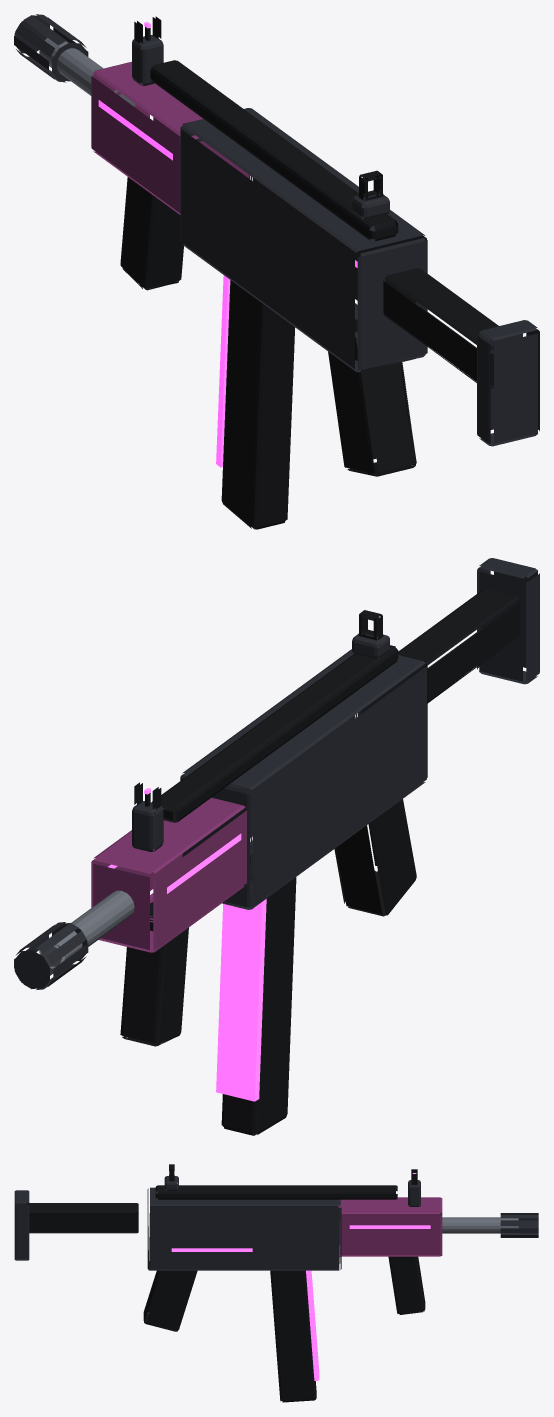
The model's file is smg_lod.glb.
3 renders of one model, top to bottom at view 1: azimuth 30°, elevation 25°; view 2: azimuth 150°, elevation 25°; view 3: azimuth 270°, elevation 25°, orthographic. The views are drawn at different scales.
Parts seen in each view (by area): view 1: Body, Magazine, IronSights; view 2: Body, Magazine, IronSights; view 3: Body, Magazine, IronSights.
Part boxes in pixels (left/top/right/bottom): Body: left=14, top=14, right=539, bottom=476; Magazine: left=216, top=275, right=294, bottom=529; IronSights: left=132, top=16, right=389, bottom=219; Body: left=14, top=558, right=539, bottom=1046; Magazine: left=216, top=855, right=296, bottom=1135; IronSights: left=132, top=610, right=389, bottom=851; Body: left=14, top=1185, right=538, bottom=1331; Magazine: left=270, top=1270, right=319, bottom=1402; IronSights: left=164, top=1164, right=420, bottom=1206.
Size of the model in its own units: 0.0575 by 0.3161 by 0.65.
